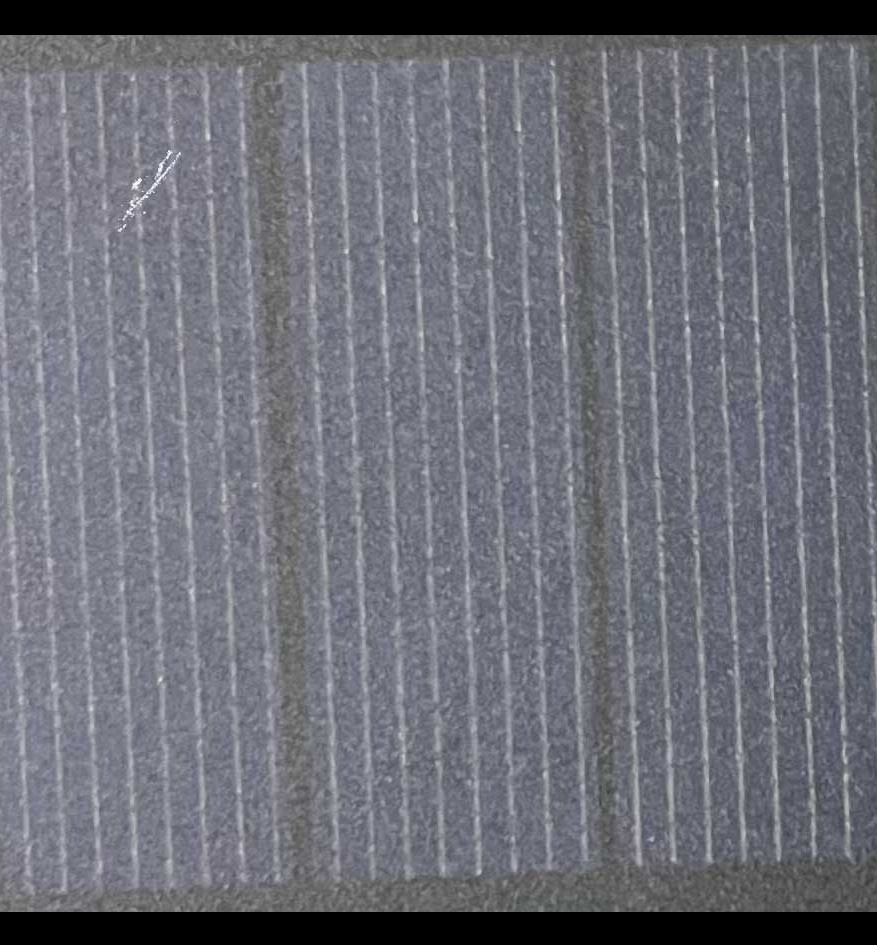Crack: (107, 138, 185, 241)
